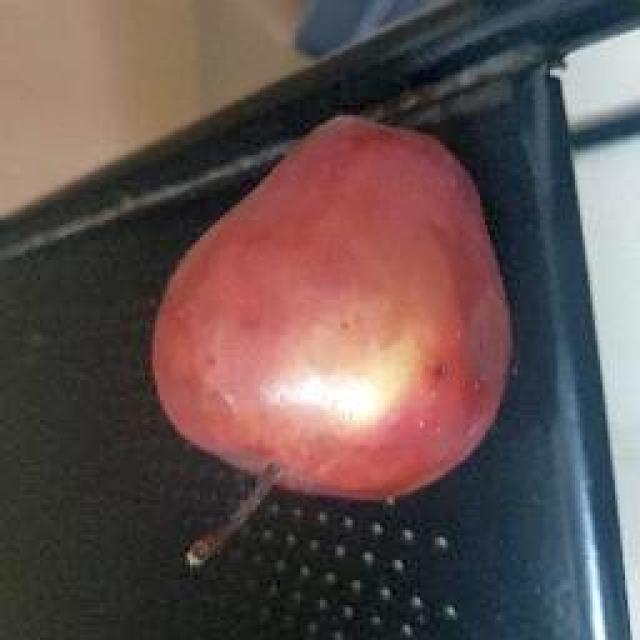Good_Apple: (152, 118, 515, 518)
